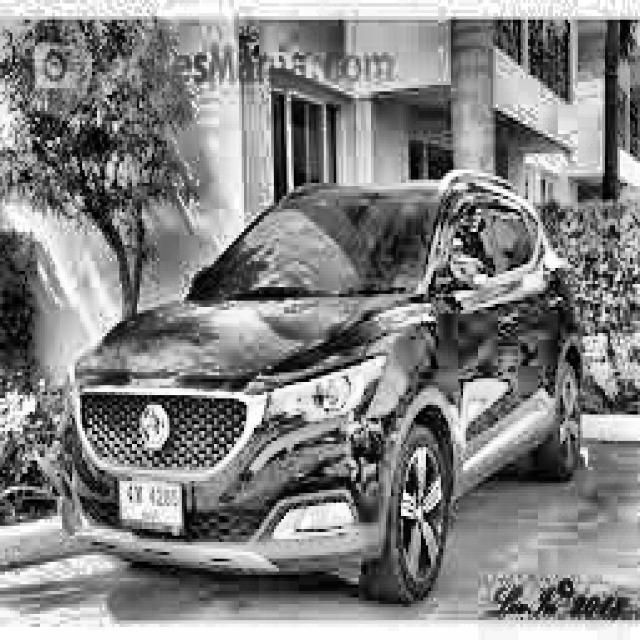license-plate: (108, 471, 195, 539)
